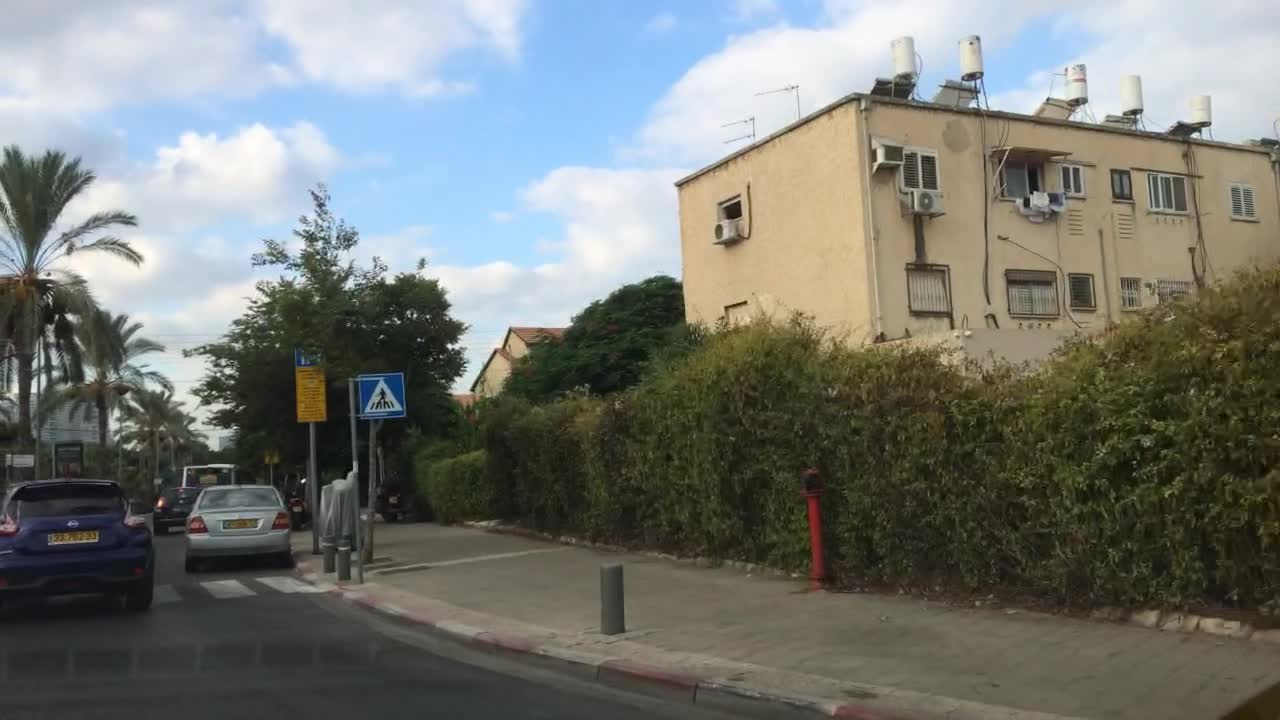bus: (177, 460, 251, 491)
car: (0, 476, 156, 614), (181, 479, 293, 568), (153, 481, 209, 535)
traffic sign: (291, 341, 328, 422), (359, 369, 408, 418), (2, 451, 36, 467)
